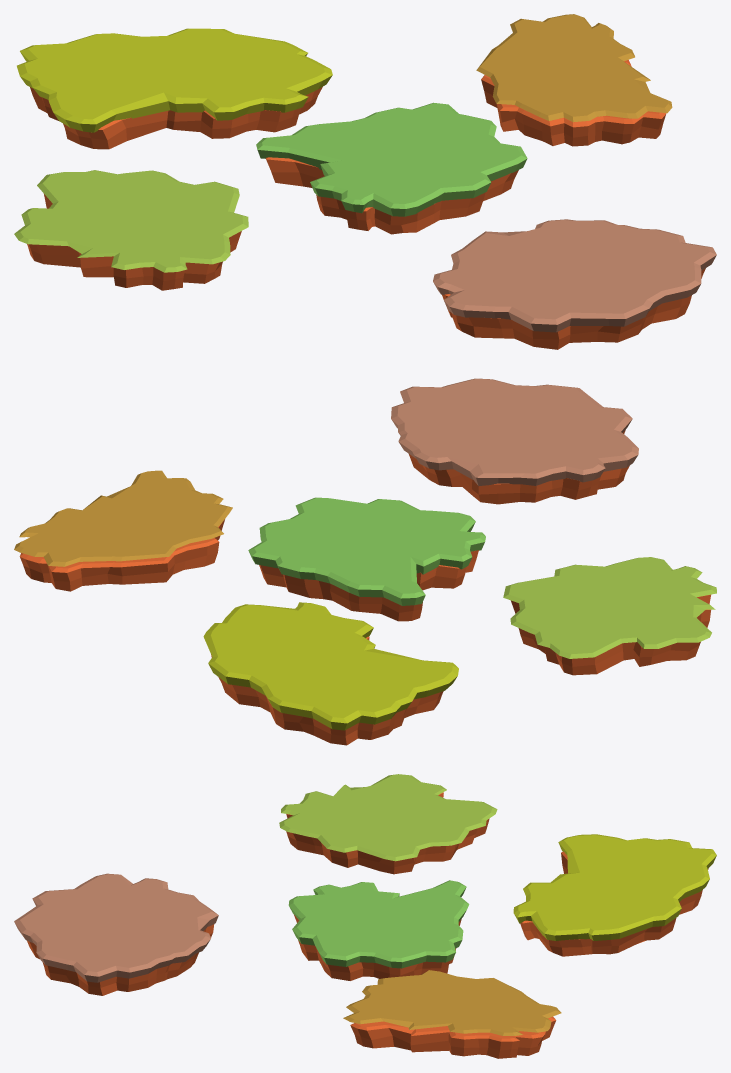
The model's file is todas_las_islas_solas.fbx.
3 renders of one model, top to bottom at view 1: azimuth 30°, elevation 25°; view 2: azimuth 150°, elevation 25°; view 3: azimuth 270°, elevation 25°, orthographic. The views are drawn at different scales.
Visible parts, largest first — view 1: Plane.003, Plane.011, Plane.005, Plane.010, Plane.013, Plane.012, Plane.004, Plane.014, Plane.007, Plane.006; view 2: Plane.003, Plane.011, Plane.005, Plane.010, Plane.013, Plane.014, Plane.004, Plane.007, Plane.012, Plane.006; view 3: Plane.003, Plane.011, Plane.005, Plane.010, Plane.013, Plane.014, Plane.006, Plane.012, Plane.007, Plane.004.
Part boxes in pixels (x1=…): Plane.003: x1=433, y1=219, x2=716, y2=332; Plane.011: x1=17, y1=28, x2=332, y2=132; Plane.005: x1=256, y1=102, x2=527, y2=216; Plane.010: x1=14, y1=170, x2=248, y2=272; Plane.013: x1=476, y1=14, x2=672, y2=122; Plane.012: x1=30, y1=87, x2=322, y2=149; Plane.004: x1=265, y1=157, x2=518, y2=234; Plane.014: x1=481, y1=60, x2=666, y2=146; Plane.007: x1=442, y1=268, x2=705, y2=349; Plane.006: x1=27, y1=193, x2=241, y2=290; Plane.003: x1=391, y1=378, x2=638, y2=485; Plane.011: x1=203, y1=602, x2=458, y2=730; Plane.005: x1=248, y1=497, x2=485, y2=605; Plane.010: x1=503, y1=557, x2=716, y2=658; Plane.013: x1=14, y1=470, x2=232, y2=566; Plane.014: x1=19, y1=519, x2=224, y2=591; Plane.004: x1=259, y1=550, x2=478, y2=621; Plane.007: x1=409, y1=430, x2=629, y2=504; Plane.012: x1=211, y1=636, x2=443, y2=745; Plane.006: x1=511, y1=594, x2=710, y2=675; Plane.003: x1=14, y1=873, x2=218, y2=982; Plane.011: x1=513, y1=834, x2=716, y2=940; Plane.005: x1=288, y1=880, x2=469, y2=968; Plane.010: x1=279, y1=774, x2=497, y2=861; Plane.013: x1=343, y1=970, x2=561, y2=1035; Plane.014: x1=350, y1=1016, x2=556, y2=1058; Plane.006: x1=286, y1=792, x2=489, y2=874; Plane.012: x1=520, y1=851, x2=708, y2=956; Plane.007: x1=27, y1=924, x2=214, y2=995; Plane.004: x1=294, y1=915, x2=461, y2=980.
Bounding box in the file's own units: 28863 × 1540 × 32516.
